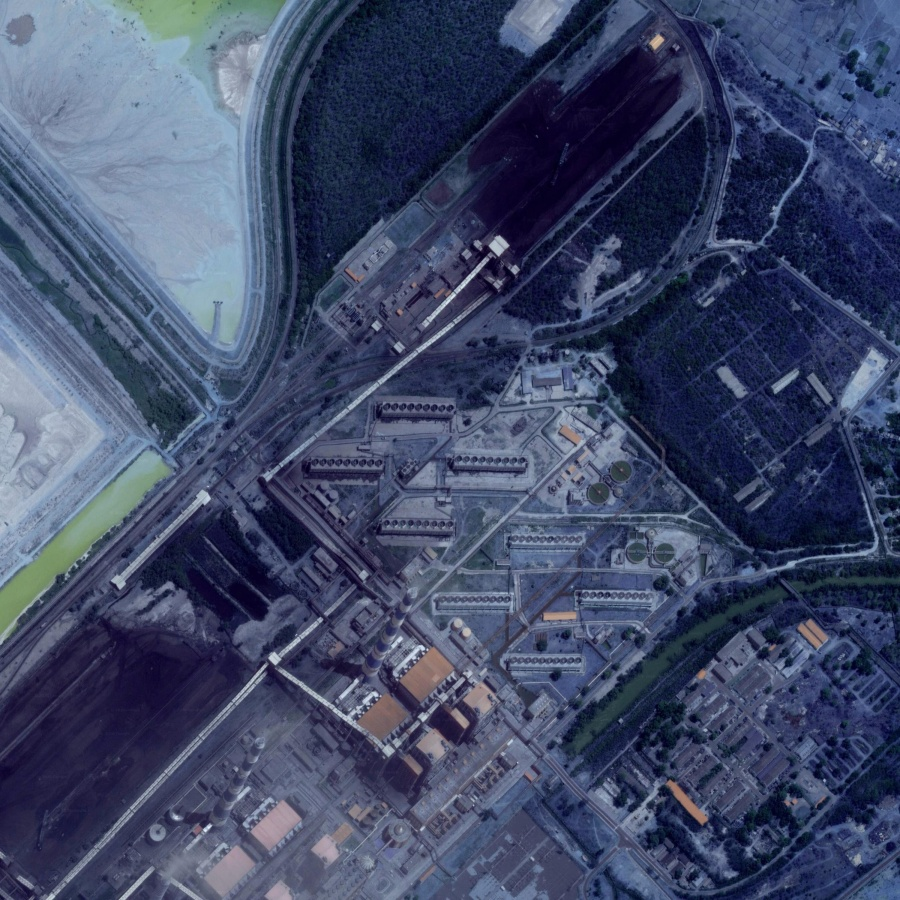PowerPlant: (422, 14, 700, 296)
